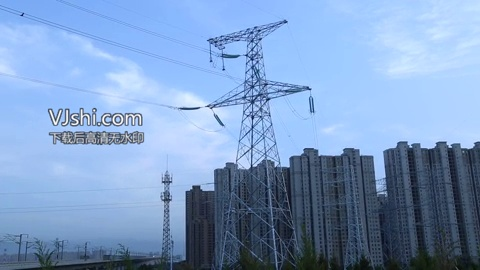tower_body: (199, 14, 308, 269)
tower_foot: (219, 217, 300, 268)
tower_head: (204, 17, 291, 53)
